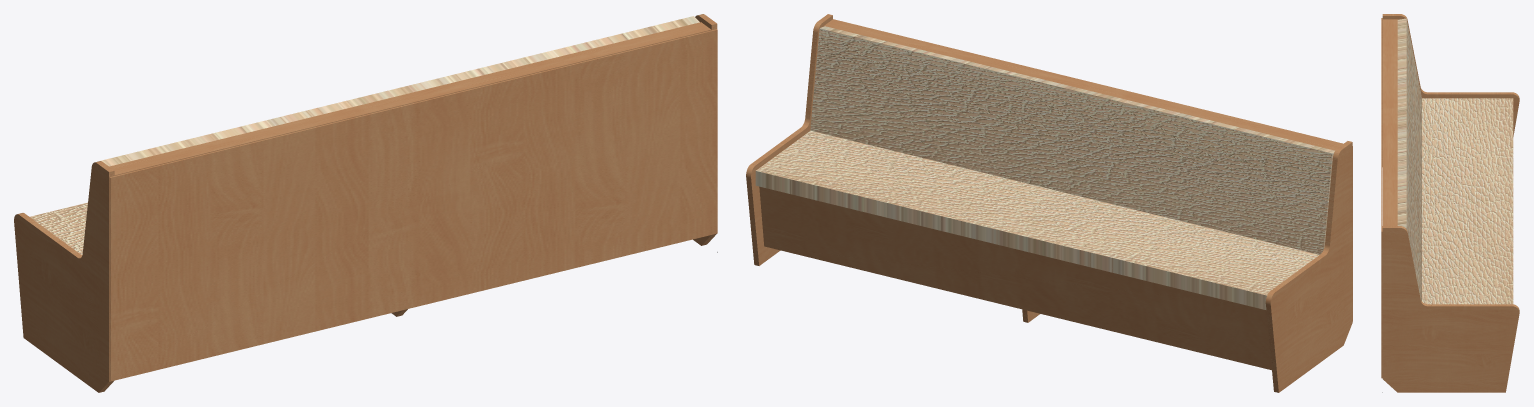
File: divan_malvina_4_polumjagkij.glb
3 views of the same model, side by side, from view 1: azimuth 30°, elevation 25°; view 2: azimuth 150°, elevation 25°; view 3: azimuth 270°, elevation 25° (orthographic). The views are drawn at different scales.
Parts seen in each view (by area): view 1: Shape_IndexedFaceSet.008_NON, Shape_IndexedFaceSet.005, Shape_IndexedFaceSet.003, Shape_IndexedFaceSet.001_NON, Shape_IndexedFaceSet.002_NON; view 2: Shape_IndexedFaceSet.001_NON, Shape_IndexedFaceSet.002_NON, Shape_IndexedFaceSet, Shape_IndexedFaceSet.005, Shape_IndexedFaceSet.003, Shape_IndexedFaceSet.006, Shape_IndexedFaceSet.008_NON; view 3: Shape_IndexedFaceSet.002_NON, Shape_IndexedFaceSet.006, Shape_IndexedFaceSet.001_NON, Shape_IndexedFaceSet.003, Shape_IndexedFaceSet.005, Shape_IndexedFaceSet.008_NON.
Part boxes in pixels (x1=…): Shape_IndexedFaceSet.008_NON: x1=109, y1=29, x2=717, y2=381; Shape_IndexedFaceSet.005: x1=14, y1=161, x2=114, y2=392; Shape_IndexedFaceSet.003: x1=109, y1=22, x2=711, y2=175; Shape_IndexedFaceSet.001_NON: x1=100, y1=16, x2=699, y2=166; Shape_IndexedFaceSet.002_NON: x1=29, y1=202, x2=87, y2=254; Shape_IndexedFaceSet.001_NON: x1=810, y1=26, x2=1334, y2=254; Shape_IndexedFaceSet.002_NON: x1=755, y1=130, x2=1319, y2=309; Shape_IndexedFaceSet: x1=759, y1=186, x2=1271, y2=370; Shape_IndexedFaceSet.005: x1=1265, y1=141, x2=1352, y2=392; Shape_IndexedFaceSet.003: x1=824, y1=19, x2=1342, y2=150; Shape_IndexedFaceSet.006: x1=746, y1=14, x2=832, y2=265; Shape_IndexedFaceSet.008_NON: x1=833, y1=19, x2=1352, y2=321; Shape_IndexedFaceSet.002_NON: x1=1422, y1=98, x2=1513, y2=304; Shape_IndexedFaceSet.006: x1=1382, y1=226, x2=1519, y2=392; Shape_IndexedFaceSet.001_NON: x1=1397, y1=18, x2=1421, y2=300; Shape_IndexedFaceSet.003: x1=1383, y1=19, x2=1397, y2=225; Shape_IndexedFaceSet.005: x1=1382, y1=14, x2=1519, y2=166; Shape_IndexedFaceSet.008_NON: x1=1381, y1=18, x2=1382, y2=378.
Bounding box in the file's own units: 1701 × 611 × 464.
10 materials, 9 textured.
